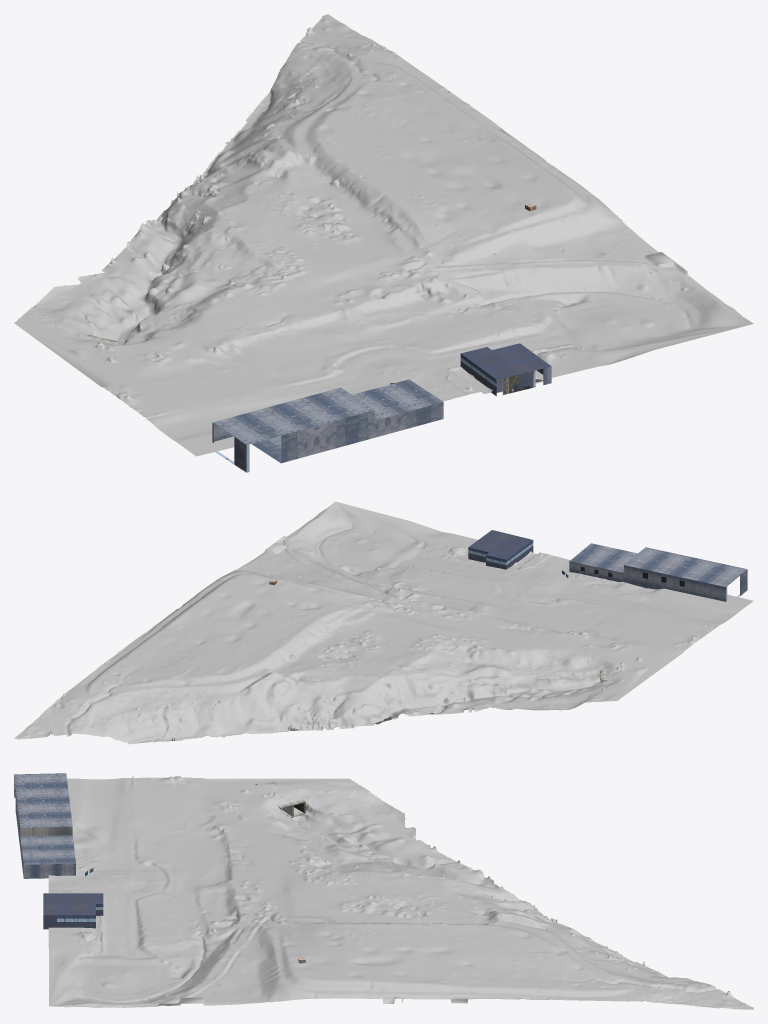
File: TerrainMap2.fbx
3 renders of one model, top to bottom at view 1: azimuth 30°, elevation 25°; view 2: azimuth 150°, elevation 25°; view 3: azimuth 270°, elevation 25°, orthographic. The views are drawn at different scales.
Parts seen in each view (by area): view 1: a1Map; view 2: a1Map; view 3: a1Map.
Boxes of the visible parts, x1=… form: a1Map: x1=14, y1=14, x2=753, y2=472; a1Map: x1=14, y1=501, x2=753, y2=744; a1Map: x1=14, y1=773, x2=753, y2=1009.
Size of the model in its own units: 32339 by 2479 by 44881.
